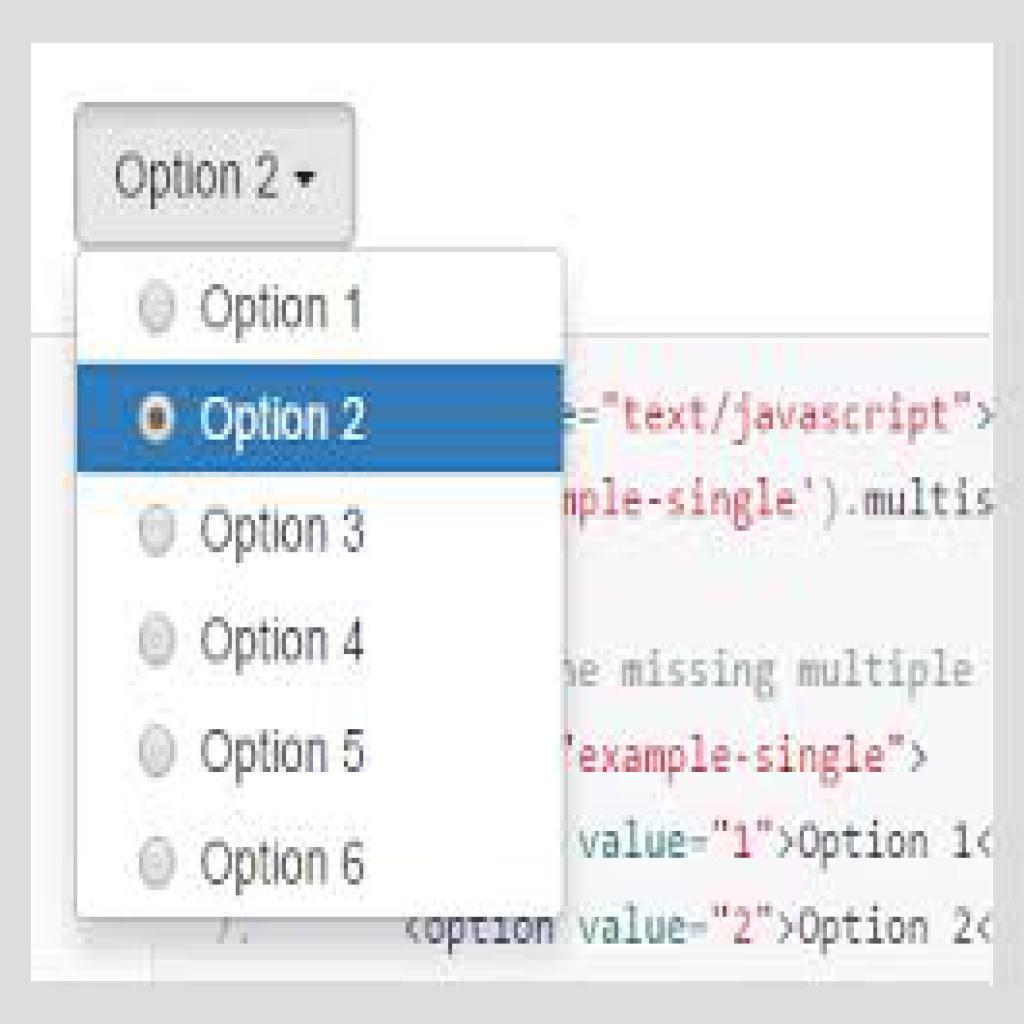dropdown: (77, 108, 352, 245)
radio: (124, 266, 188, 347), (130, 382, 187, 461), (131, 489, 183, 566), (128, 714, 187, 779), (128, 599, 181, 669), (128, 832, 186, 895)
